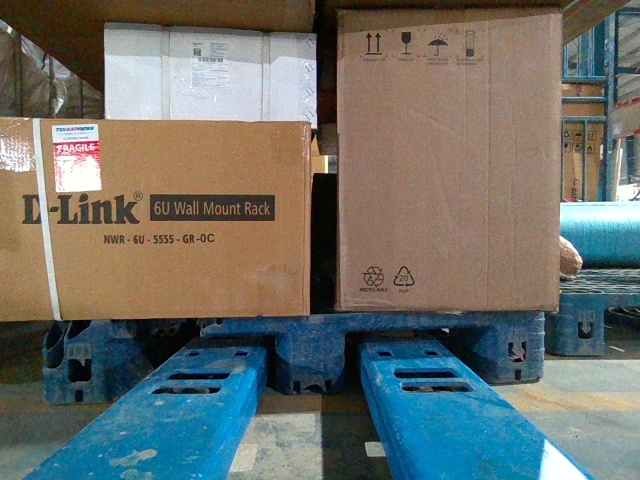block: (44, 320, 116, 407), (284, 312, 345, 394), (485, 311, 544, 385), (559, 292, 606, 358)
front: (47, 309, 543, 403)
hole pallet: (114, 326, 287, 401), (340, 324, 493, 392)
